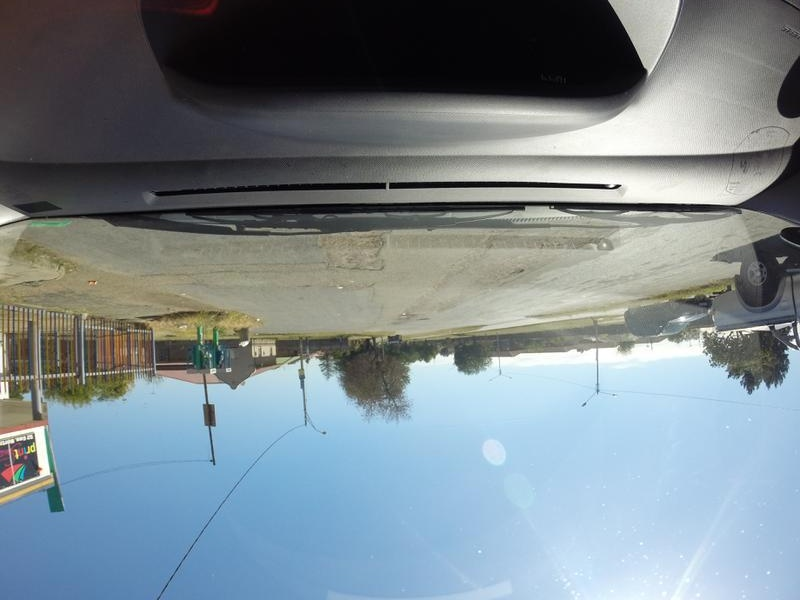pothole: (319, 235, 386, 270), (501, 265, 527, 276), (294, 281, 312, 291), (411, 316, 431, 321)
